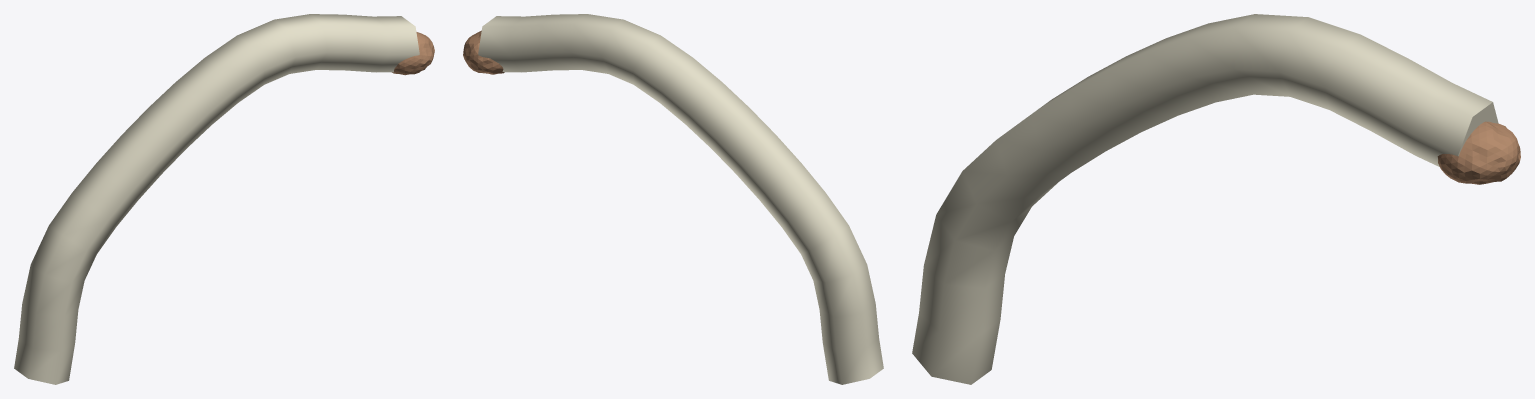
The model's file is prehistoric-expedition-sites-rib-fragment-99e4b383__26107.glb.
The picture shows the model from 3 angles, left to right: view 1: azimuth 30°, elevation 25°; view 2: azimuth 150°, elevation 25°; view 3: azimuth 330°, elevation 25°; orthographic projection. The views are drawn at different scales.
Parts seen in each view (by area): view 1: rib-fragment; view 2: rib-fragment; view 3: rib-fragment.
Part boxes in pixels (<box>): rib-fragment: <box>14,14,434,384</box>; rib-fragment: <box>463,14,883,384</box>; rib-fragment: <box>912,14,1520,384</box>.
Bounding box in the file's own units: 0.5861 × 0.4058 × 0.0725.
